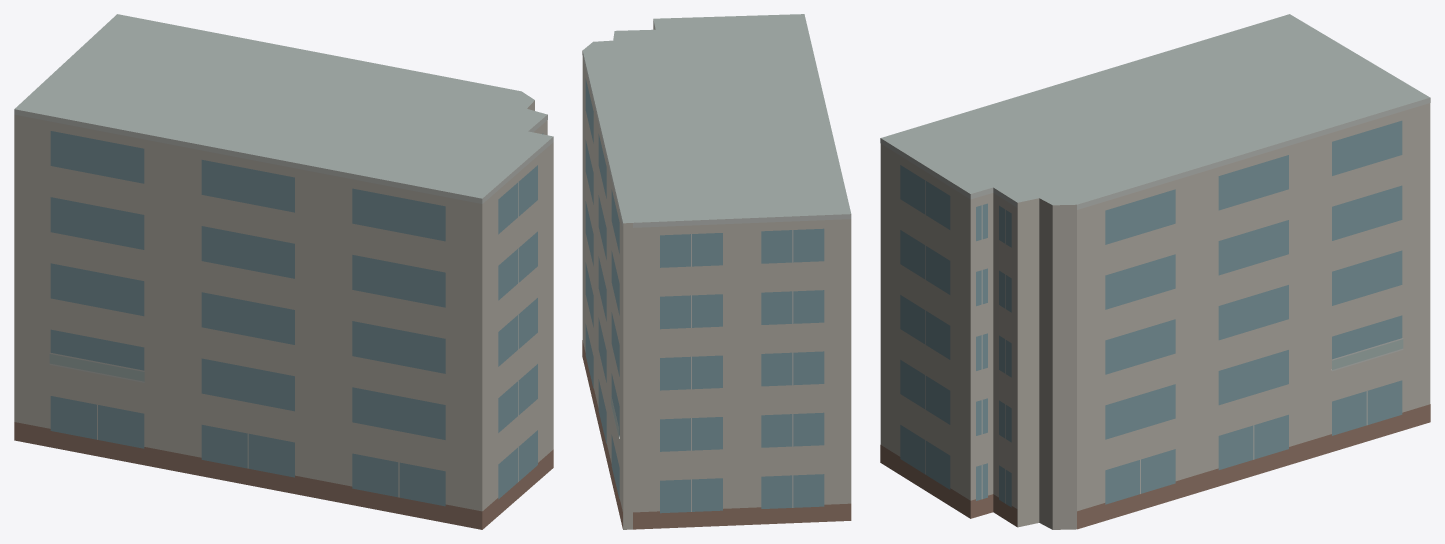
Rendered from survey-upis-32689334.glb.
3 renders of one model, left to right at view 1: azimuth 30°, elevation 25°; view 2: azimuth 150°, elevation 25°; view 3: azimuth 270°, elevation 25°, orthographic. The views are drawn at different scales.
Visible parts, largest first — view 1: survey-upis-32689334.tmp; view 2: survey-upis-32689334.tmp; view 3: survey-upis-32689334.tmp.
Part boxes in pixels (<box>): survey-upis-32689334.tmp: <box>14,14,553,529</box>; survey-upis-32689334.tmp: <box>582,14,851,529</box>; survey-upis-32689334.tmp: <box>880,14,1430,529</box>.
Bounding box in the file's own units: 18.83 × 14.9 × 22.88.
